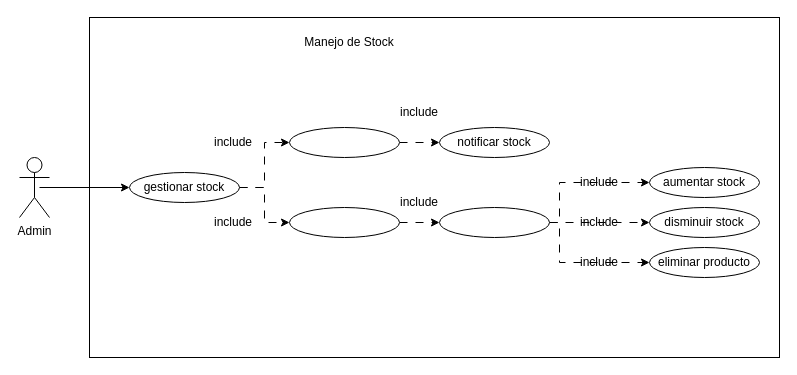
Some shapes in this 797 by 375 pixel diagram are drawn without their labels. The shapes that lost their labels are listed below. From the top down, each one's centre as x and y in pixels, then its label:
the point at 344,142: consultar stock
the point at 344,222: actualizar stock
the point at 494,222: modificar producto
